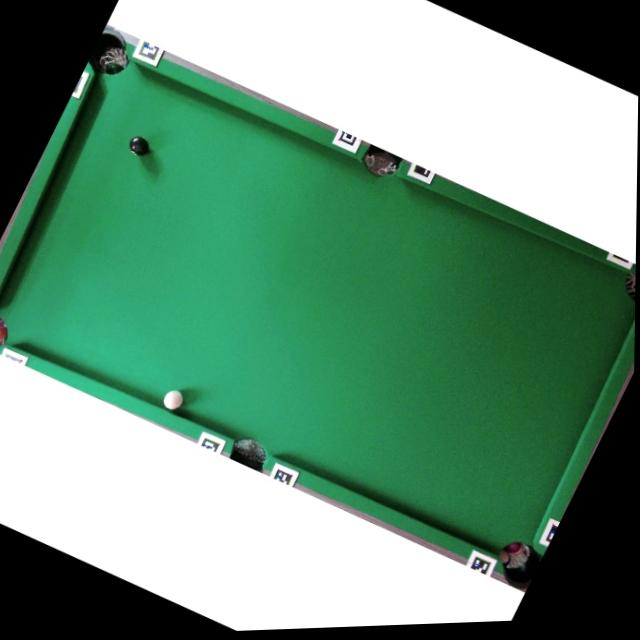cue ball: (159, 385, 187, 414)
other: (125, 132, 153, 160)
